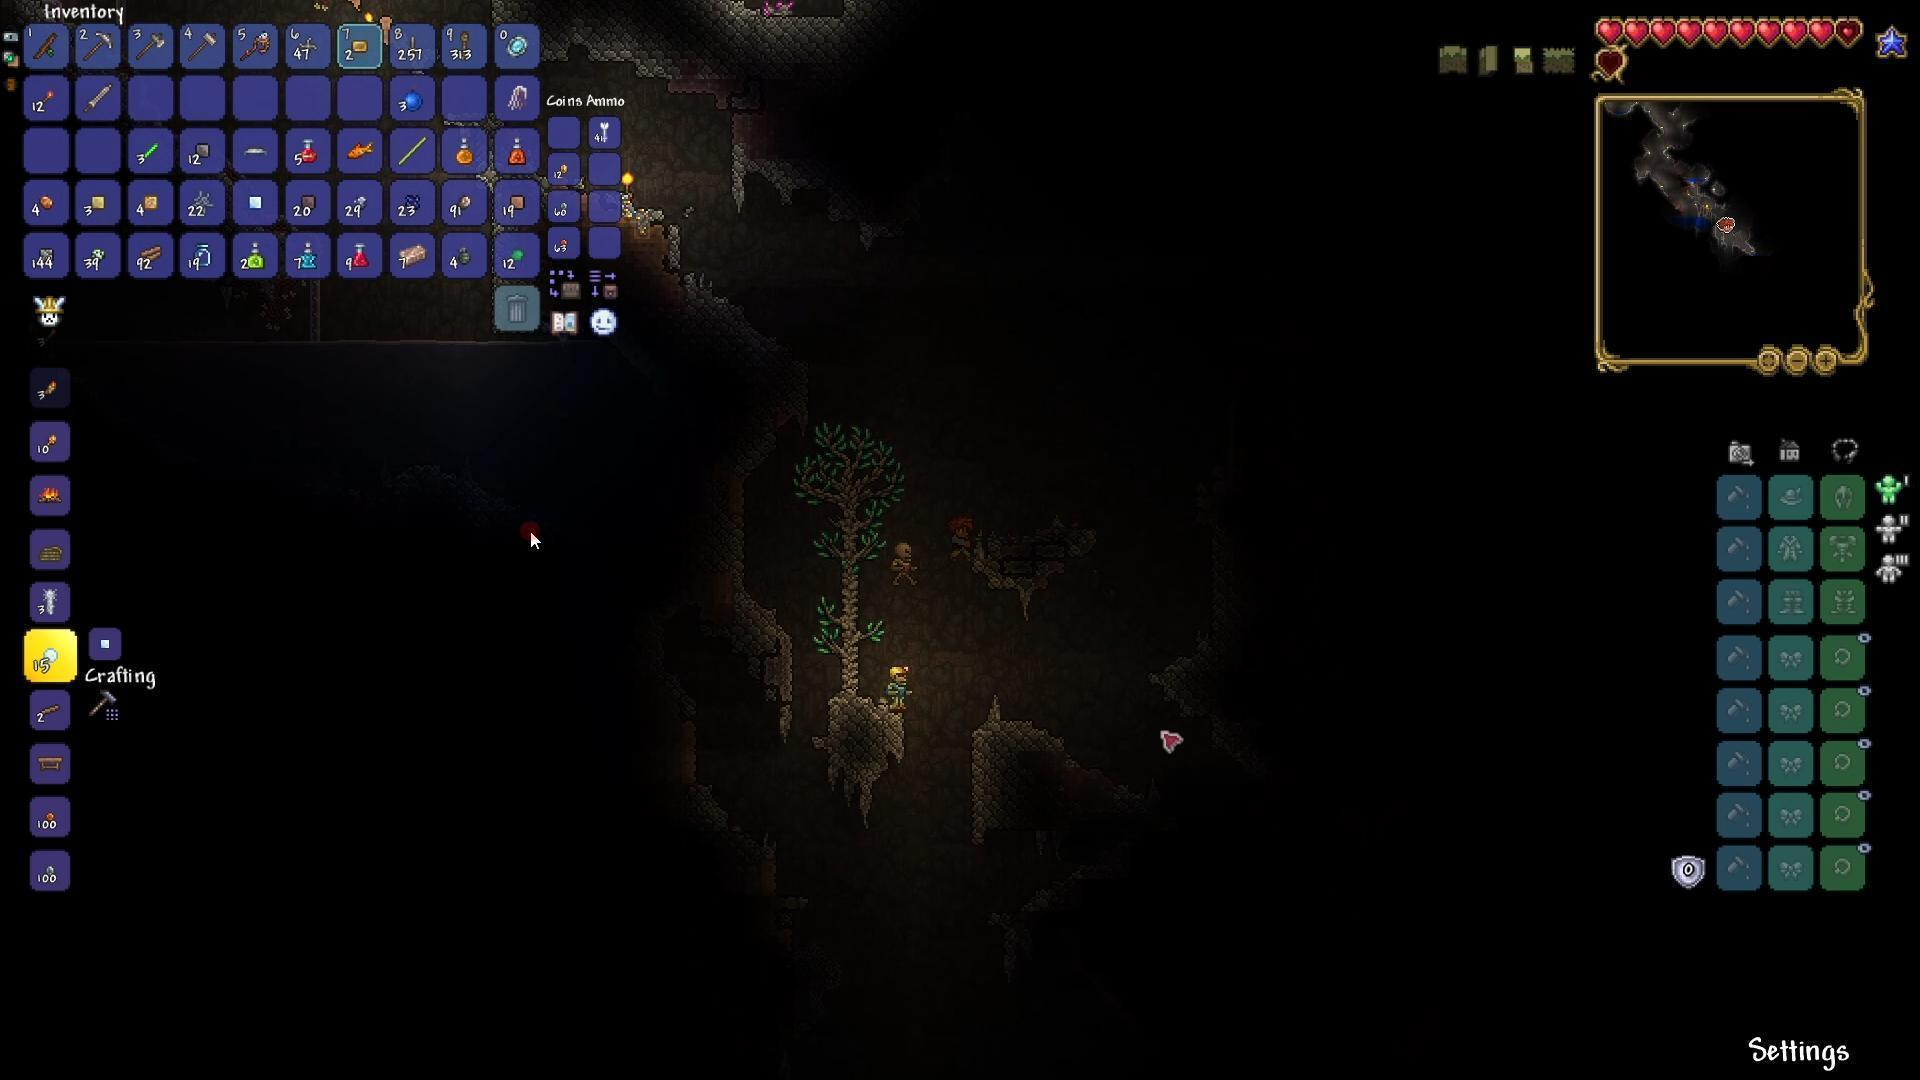cobwebI: (187, 190, 216, 218)
glowstick: (138, 138, 160, 164)
wood: (140, 241, 161, 264)
zombie: (877, 526, 930, 596)
